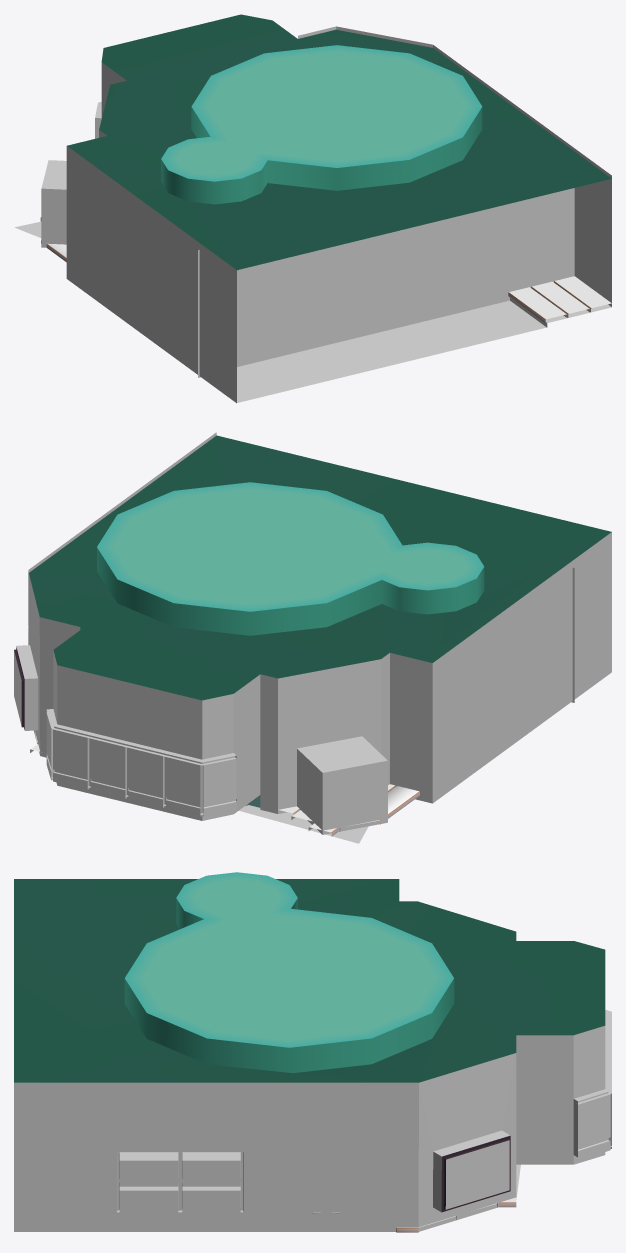
The model's file is DotsShop.fbx.
The picture shows the model from 3 angles, top to bottom: view 1: azimuth 30°, elevation 25°; view 2: azimuth 150°, elevation 25°; view 3: azimuth 270°, elevation 25°; orthographic projection. The views are drawn at different scales.
Parts seen in each view (by area): view 1: Ceiling, WallBack, BrickWall, Floor, WallRight, WoodFloor, WallFrontEntrance, WallFront, FloorStructure; view 2: Ceiling, BrickWall, WallFrontEntrance, WallFront, Windows, WallRight, WallFrontWindowPiece, WallFrontSide, WoodFloor, FloorStructure; view 3: Ceiling, WallRight, WallFront, Shelves, Windows.
Part boxes in pixels (bbox=[...]): Ceiling: bbox=[67, 14, 611, 270]; WallBack: bbox=[198, 188, 574, 377]; BrickWall: bbox=[66, 146, 236, 403]; Floor: bbox=[237, 300, 546, 402]; WallRight: bbox=[336, 26, 611, 306]; WoodFloor: bbox=[40, 217, 611, 323]; WallFrontEntrance: bbox=[41, 130, 106, 247]; WallFront: bbox=[95, 62, 126, 138]; FloorStructure: bbox=[14, 221, 611, 327]; Ceiling: bbox=[29, 435, 611, 700]; BrickWall: bbox=[390, 532, 611, 803]; WallFrontEntrance: bbox=[260, 653, 389, 834]; WallFront: bbox=[46, 650, 260, 820]; Windows: bbox=[46, 713, 236, 817]; WallRight: bbox=[14, 432, 216, 755]; WallFrontWindowPiece: bbox=[46, 712, 236, 816]; WallFrontSide: bbox=[39, 617, 80, 757]; WoodFloor: bbox=[30, 732, 419, 836]; FloorStructure: bbox=[44, 757, 368, 843]; Ceiling: bbox=[14, 872, 605, 1082]; WallRight: bbox=[14, 1053, 516, 1231]; WallFront: bbox=[516, 1010, 611, 1164]; Shelves: bbox=[117, 1152, 243, 1216]; Windows: bbox=[578, 1094, 610, 1160].
Bounding box in the file's own units: 13.62 × 5.2 × 16.04.
